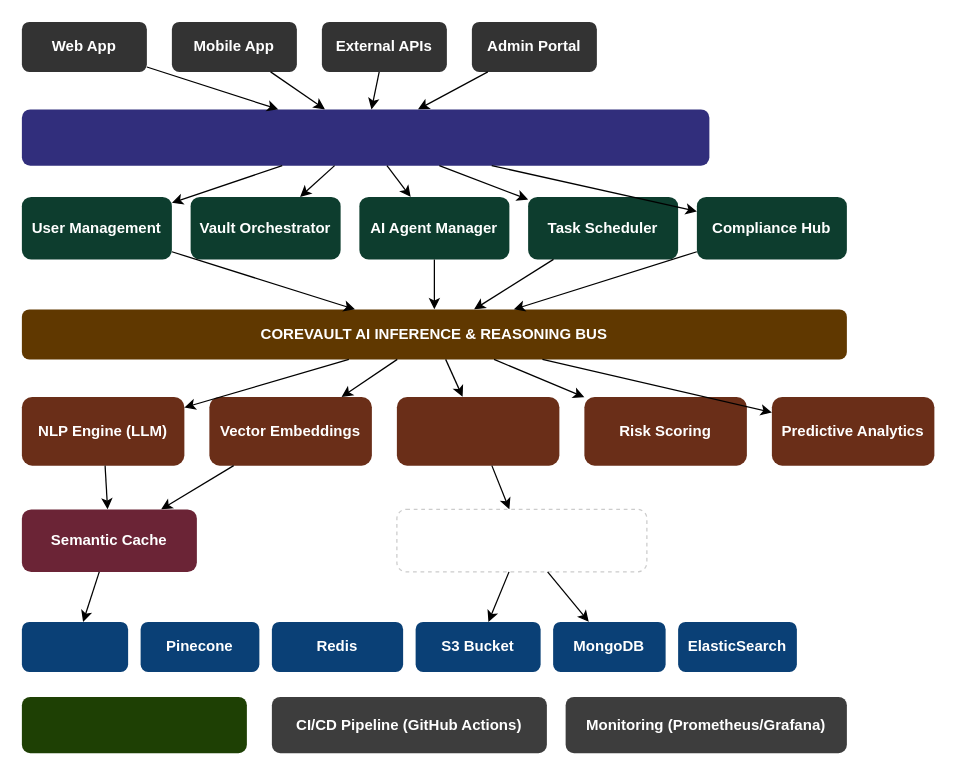
This 955x774 diagram has some shape labels left out. Each missing label, with the box of its shape:
API GATEWAY & AUTHENTICATION LAYER (OIDC / OAuth2): (21, 109, 709, 165)
External Knowledge Base (RAG): (396, 508, 647, 572)
K8s Cluster: (21, 696, 246, 752)
Pattern Recognition: (396, 396, 559, 465)
PostgreSQL: (21, 621, 128, 671)
